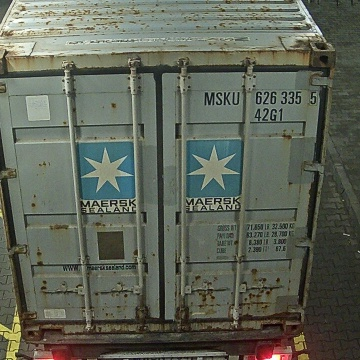serial_id: (203, 91, 316, 106)
